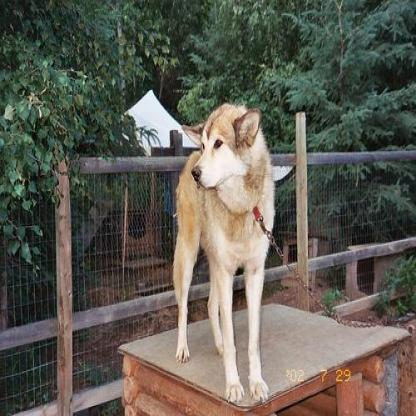Eskimo_dog: (169, 96, 278, 402)
